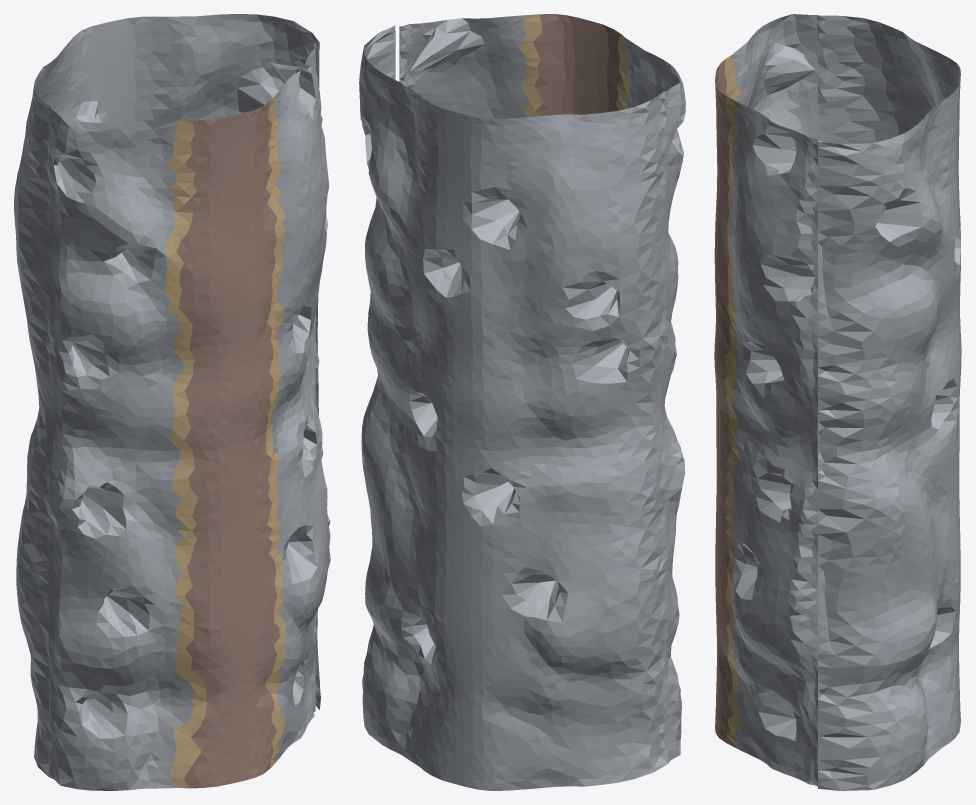
Rendered from Cave_200m_00_FBX.fbx.
3 renders of one model, left to right at view 1: azimuth 30°, elevation 25°; view 2: azimuth 150°, elevation 25°; view 3: azimuth 270°, elevation 25°, orthographic. The views are drawn at different scales.
Visible parts, largest first — view 1: Cave_200m_00_FBX; view 2: Cave_200m_00_FBX; view 3: Cave_200m_00_FBX.
Part boxes in pixels (left/top/right/bottom): Cave_200m_00_FBX: left=14, top=14, right=330, bottom=790; Cave_200m_00_FBX: left=359, top=14, right=685, bottom=790; Cave_200m_00_FBX: left=714, top=14, right=961, bottom=790.
Size of the model in its own units: 8862 by 20001 by 6927.
